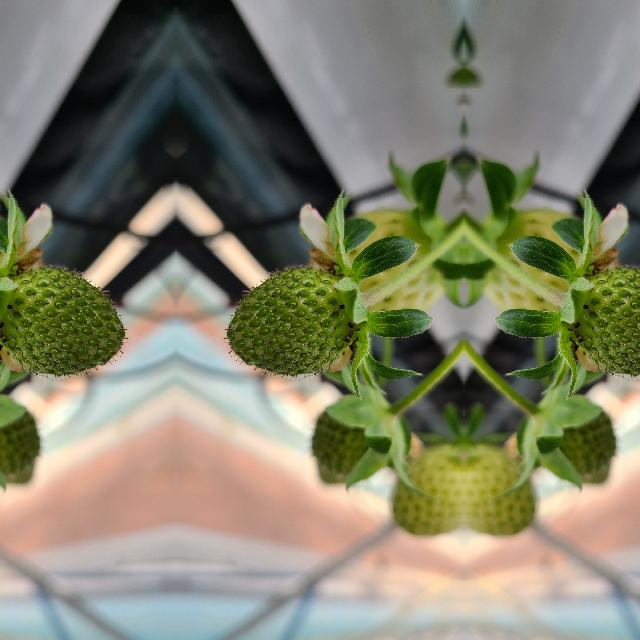Health_25: (225, 270, 352, 374), (0, 269, 124, 374), (573, 269, 640, 374)
